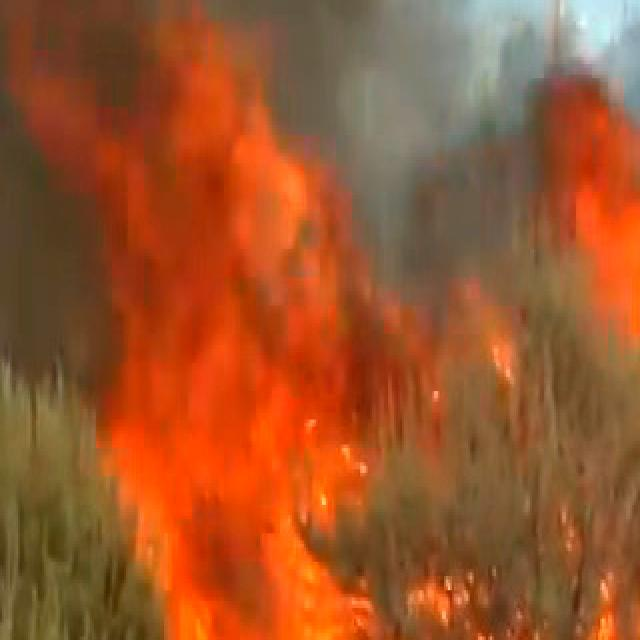fire: (54, 0, 388, 640)
